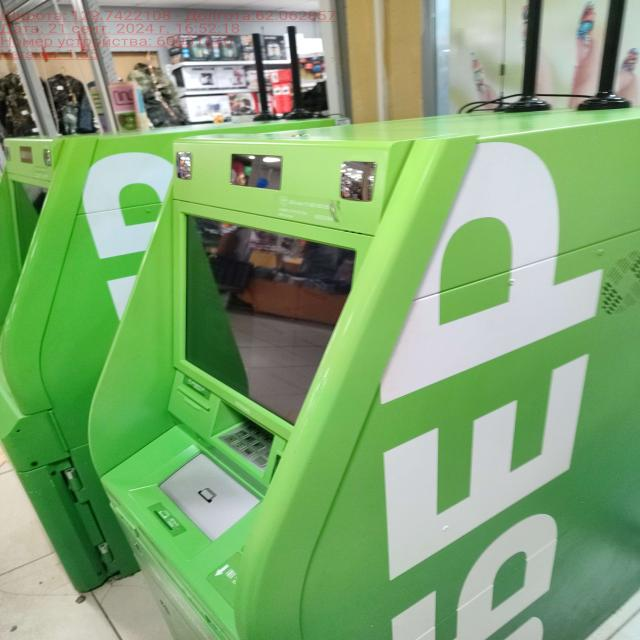bank: (102, 123, 640, 640), (0, 133, 179, 592)
